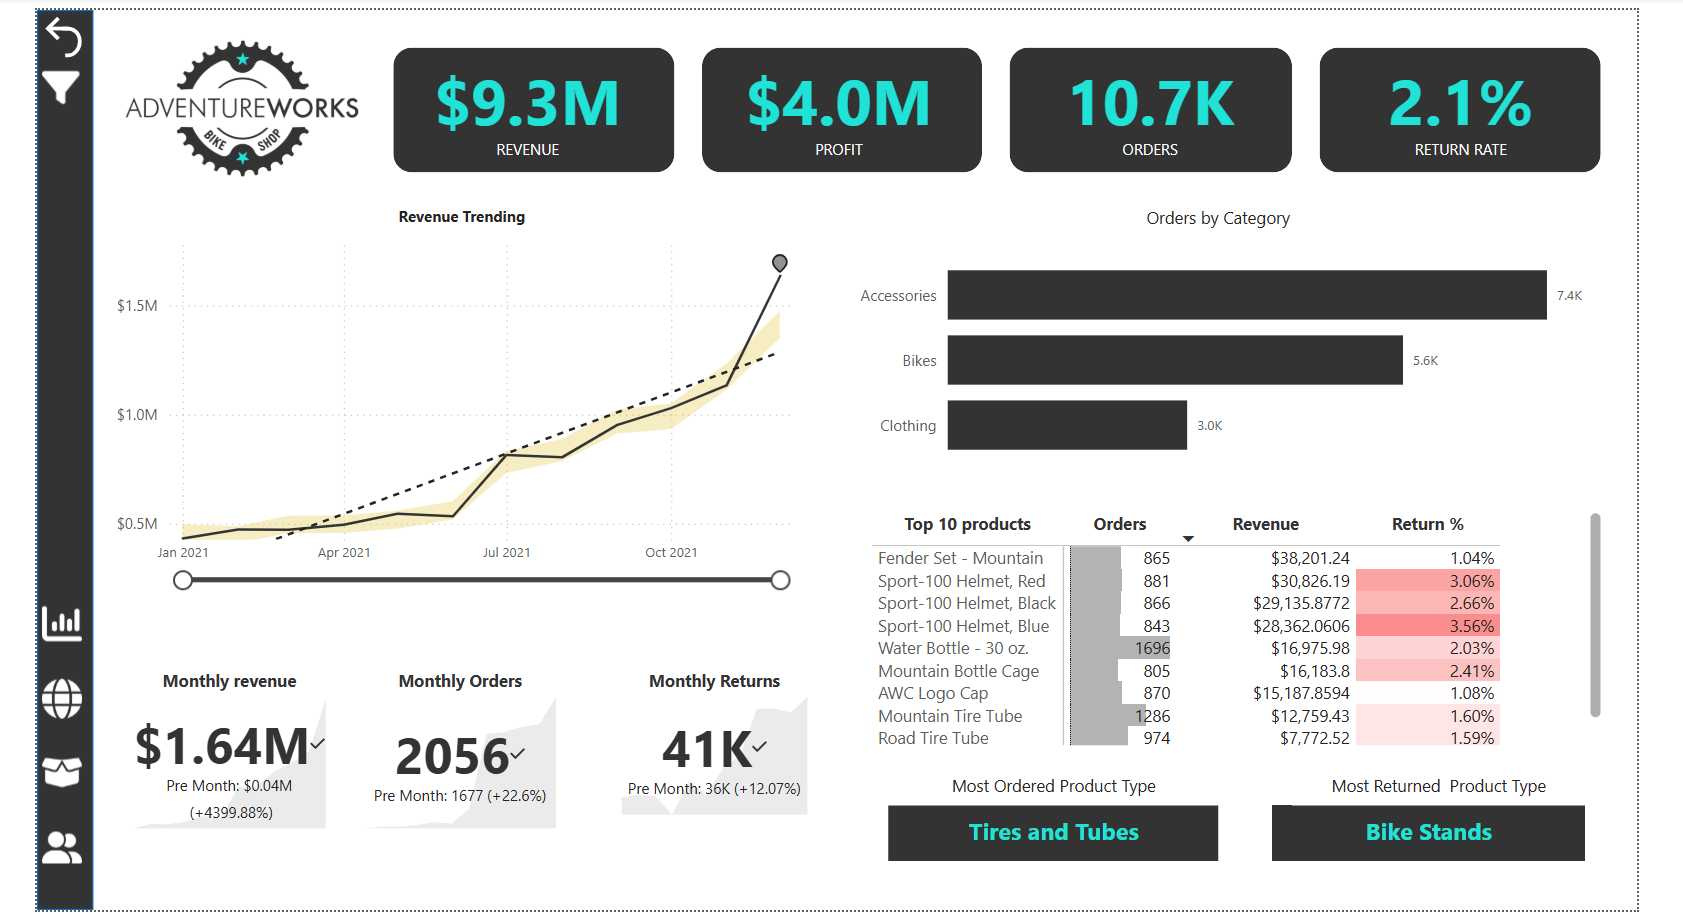

This screenshot's page, from the dashboard's own definition file:
{"tool":"powerbi","page":{"name":"Exec Dashboard","canvas":[1280,720],"ordinal":0},"visuals":[{"type":"image","title":"AW Logo","box":[45,0,237.5,157.5],"z":0},{"type":"card","fields":{"Values":["Measure Table (2).total revenue"]},"box":[273.9,29,236.2,100],"z":0,"group":"g2"},{"type":"group","id":"g1","title":"KPI Background","box":[285.4,30.2,966.2,100],"z":0,"group":"g3"},{"type":"shape","box":[285.4,30.2,225,100],"z":0,"group":"g1"},{"type":"actionButton","box":[0,470.9,44.6,40.3],"z":0,"group":"g4"},{"type":"shape","title":"Left Nav Background","box":[0,0,44.6,720],"z":1000},{"type":"group","id":"g2","title":"KPI values","box":[273.9,29,982.6,100],"z":1000,"group":"g3"},{"type":"card","fields":{"Values":["Measure Table (2).return rate"]},"box":[1020.3,29,236.2,100],"z":1000,"group":"g2"},{"type":"shape","box":[532.5,30.2,223.8,100],"z":1000,"group":"g1"},{"type":"actionButton","box":[0,589.9,44.6,40.3],"z":1000,"group":"g4"},{"type":"group","id":"g3","title":"KPIs","box":[273.9,29,982.6,101.4],"z":2000},{"type":"card","fields":{"Values":["Measure Table (2).total profit"]},"box":[522.7,29,236.2,100],"z":2000,"group":"g2"},{"type":"shape","box":[778.3,30.2,226.2,100],"z":2000,"group":"g1"},{"type":"actionButton","box":[0,649.5,44.6,40.3],"z":2000,"group":"g4"},{"type":"card","fields":{"Values":["Measure Table (2).total order"]},"box":[771.5,29,236.2,100],"z":3000,"group":"g2"},{"type":"shape","box":[1026.7,30.2,225,100],"z":3000,"group":"g1"},{"type":"lineChart","title":" Revenue Trending","fields":{"Y":["Measure Table (2).total revenue"],"Category":["Calendar Lookup.Start of Month"]},"box":[57.6,157,563,309.6],"z":3000},{"type":"actionButton","box":[0,530.4,44.6,40.3],"z":3000,"group":"g4"},{"type":"kpi","title":"Monthly revenue","fields":{"Indicator":["Measure Table (2).total revenue"],"TrendLine":["Calendar Lookup.Start of Month"],"Goal":["Measure Table (2).previous month revenue"]},"box":[70.6,527,165.6,132.5],"z":4000},{"type":"kpi","title":"Monthly Orders","fields":{"TrendLine":["Calendar Lookup.Start of Month"],"Indicator":["Measure Table (2).total order"],"Goal":["Measure Table (2).previous month orders"]},"box":[256.3,527,164.2,132.5],"z":5000},{"type":"kpi","title":"Monthly Returns","fields":{"TrendLine":["Calendar Lookup.Start of Month"],"Goal":["Measure Table (2).previous month returns"],"Indicator":["Measure Table (2).total return"]},"box":[462.2,527,158.4,122.4],"z":6000},{"type":"clusteredBarChart","title":"Orders by Category","fields":{"Category":["Product Categories Lookup.CategoryName"],"Y":["Measure Table (2).total order"]},"box":[648,157,593.3,223.2],"z":7000},{"type":"pivotTable","fields":{"Rows":["Product lookup.ProductName"],"Values":["Measure Table (2).total order","Measure Table (2).total revenue","Measure Table (2).return rate"]},"box":[662.4,397.4,593.3,195.8],"z":8000},{"type":"card","fields":{"Values":["Min(Product Subcategories Lookup.SubcategoryName)"]},"box":[681.1,636.5,263.5,44.6],"z":9000},{"type":"textbox","box":[681.1,606.2,263.5,30.2],"z":10000},{"type":"card","fields":{"Values":["Min(Product Subcategories Lookup.SubcategoryName)"]},"box":[987.8,636.5,250.6,44.6],"z":11000},{"type":"textbox","box":[1003.7,606.2,234.7,30.2],"z":12000},{"type":"actionButton","box":[0,0,44.6,43.2],"z":13000},{"type":"group","id":"g4","title":"Navigation Buttons","box":[0,470.9,44.6,218.9],"z":14000},{"type":"actionButton","box":[0,43.2,44.6,37.4],"z":15000}]}

Visuals, with their boxes on the page's 1280x720 design canvas (x1, y1, x2, y2). These are canvas units, not pixel positions in the 1683x915 screenshot, which may show the page scaled, cropped or inside an application window:
"AW Logo" image: (x1=45, y1=0, x2=282, y2=158)
card - Measure Table (2).total revenue: (x1=274, y1=29, x2=510, y2=129)
"KPI Background" group: (x1=285, y1=30, x2=1252, y2=130)
shape: (x1=285, y1=30, x2=510, y2=130)
actionButton: (x1=0, y1=471, x2=45, y2=511)
"Left Nav Background" shape: (x1=0, y1=0, x2=45, y2=720)
"KPI values" group: (x1=274, y1=29, x2=1256, y2=129)
card - Measure Table (2).return rate: (x1=1020, y1=29, x2=1256, y2=129)
shape: (x1=532, y1=30, x2=756, y2=130)
actionButton: (x1=0, y1=590, x2=45, y2=630)
"KPIs" group: (x1=274, y1=29, x2=1256, y2=130)
card - Measure Table (2).total profit: (x1=523, y1=29, x2=759, y2=129)
shape: (x1=778, y1=30, x2=1004, y2=130)
actionButton: (x1=0, y1=650, x2=45, y2=690)
card - Measure Table (2).total order: (x1=772, y1=29, x2=1008, y2=129)
shape: (x1=1027, y1=30, x2=1252, y2=130)
" Revenue Trending" lineChart: (x1=58, y1=157, x2=621, y2=467)
actionButton: (x1=0, y1=530, x2=45, y2=571)
"Monthly revenue" kpi: (x1=71, y1=527, x2=236, y2=660)
"Monthly Orders" kpi: (x1=256, y1=527, x2=420, y2=660)
"Monthly Returns" kpi: (x1=462, y1=527, x2=621, y2=649)
"Orders by Category" clusteredBarChart: (x1=648, y1=157, x2=1241, y2=380)
pivotTable - Product lookup.ProductName x Measure Table (2).total order: (x1=662, y1=397, x2=1256, y2=593)
card - Min(Product Subcategories Lookup.SubcategoryName): (x1=681, y1=636, x2=945, y2=681)
textbox: (x1=681, y1=606, x2=945, y2=636)
card - Min(Product Subcategories Lookup.SubcategoryName): (x1=988, y1=636, x2=1238, y2=681)
textbox: (x1=1004, y1=606, x2=1238, y2=636)
actionButton: (x1=0, y1=0, x2=45, y2=43)
"Navigation Buttons" group: (x1=0, y1=471, x2=45, y2=690)
actionButton: (x1=0, y1=43, x2=45, y2=81)
